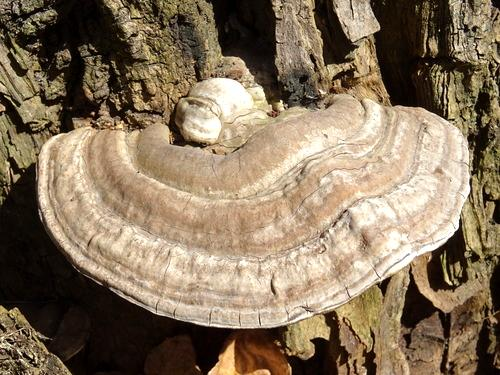Ganoderma - Fruit Body: (29, 86, 478, 337)
